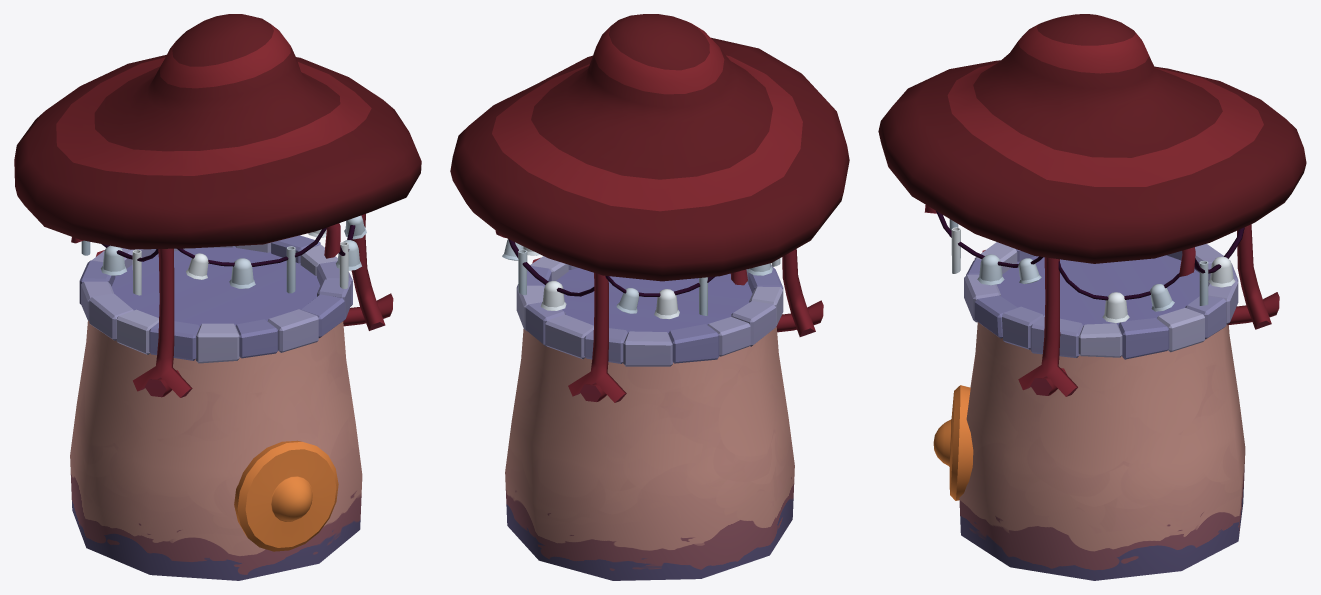
The model's file is S_House3.fbx.
3 views of the same model, side by side, from view 1: azimuth 30°, elevation 25°; view 2: azimuth 150°, elevation 25°; view 3: azimuth 270°, elevation 25° (orthographic). The views are drawn at different scales.
Parts seen in each view (by area): view 1: S_House3; view 2: S_House3; view 3: S_House3.
Boxes of the visible parts, x1,y1,x2,y2 form: S_House3: [14, 14, 421, 580]; S_House3: [450, 14, 849, 580]; S_House3: [878, 14, 1306, 580].
Bounding box in the file's own units: 699 × 949 × 732.
